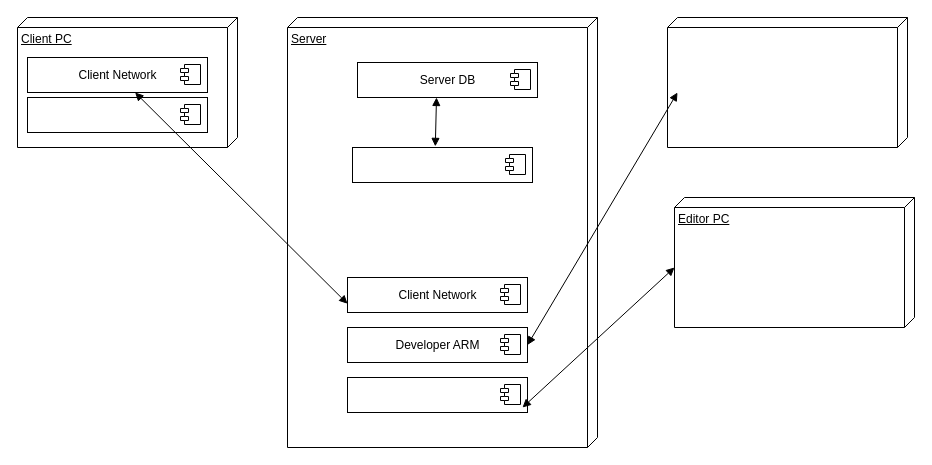
Image size: 932x465. Some labels were removed from this diagram. The centre of each missing label's shape, as x and y in pixels:
Client UI: (117,114)
Developer PC: (787,82)
Editor ARM: (437,394)
Server BussinesLogic: (442,164)
